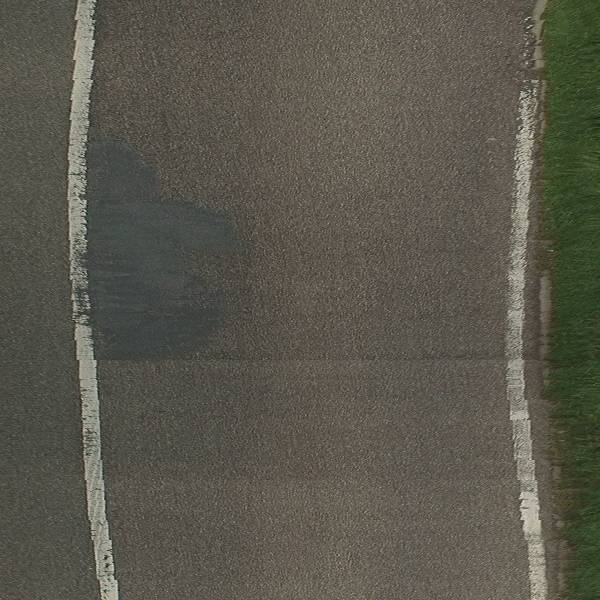road_damage: (76, 130, 249, 371)
